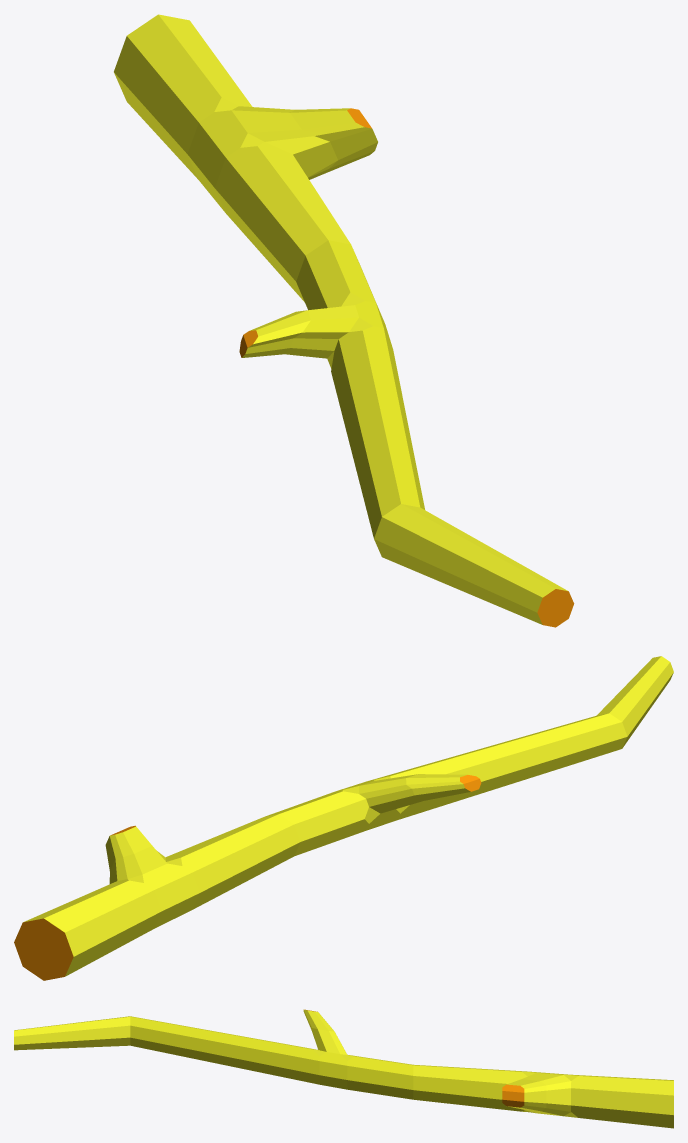
The model's file is Stick_33.fbx.
3 renders of one model, top to bottom at view 1: azimuth 30°, elevation 25°; view 2: azimuth 150°, elevation 25°; view 3: azimuth 270°, elevation 25°, orthographic. The views are drawn at different scales.
Visible parts, largest first — view 1: Circle.319; view 2: Circle.319; view 3: Circle.319.
Boxes of the visible parts, x1,y1,x2,y2 form: Circle.319: (114, 14, 574, 627); Circle.319: (14, 656, 673, 980); Circle.319: (14, 1009, 673, 1128).
Bounding box in the file's own units: 14.72 × 3.82 × 43.67.
